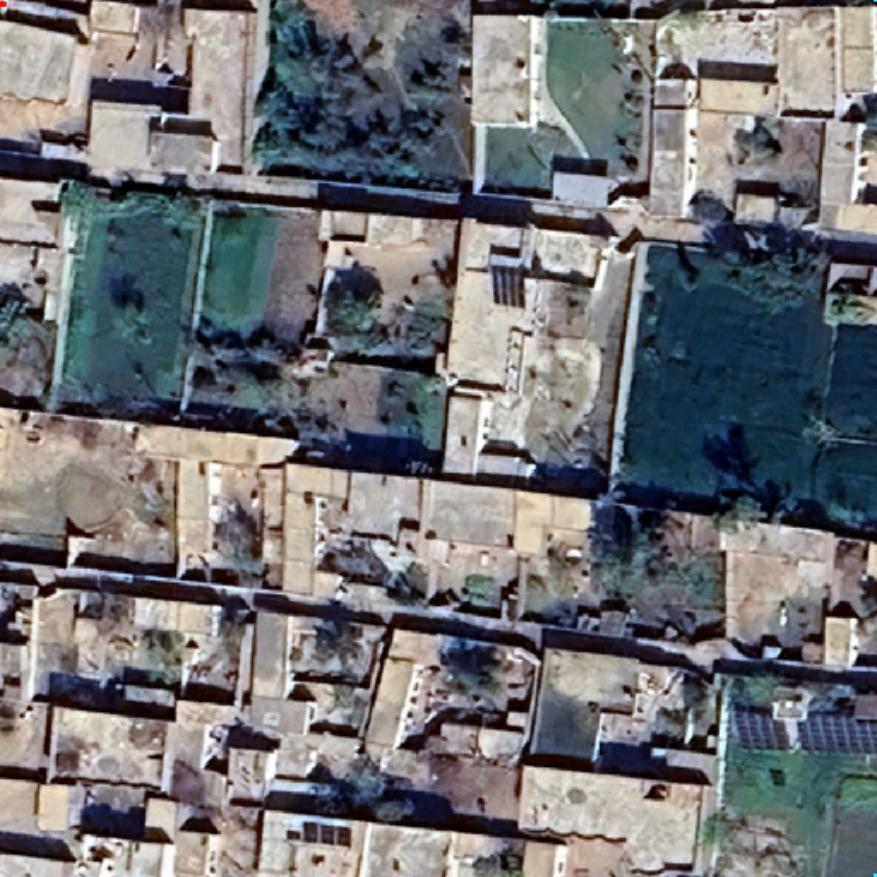Solarpanel: (793, 708, 877, 760), (726, 704, 794, 754), (486, 260, 530, 312), (296, 818, 356, 852)
